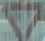Give way: (3, 1, 40, 40)
